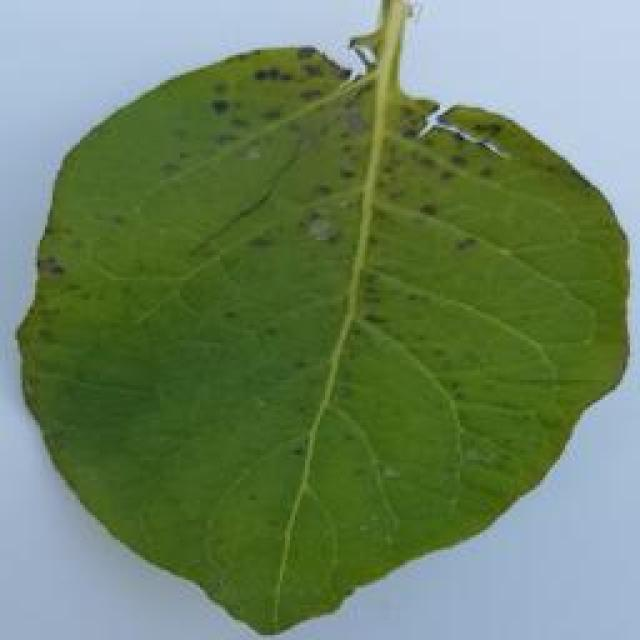Potato_Early_Blight: (12, 30, 640, 640)
